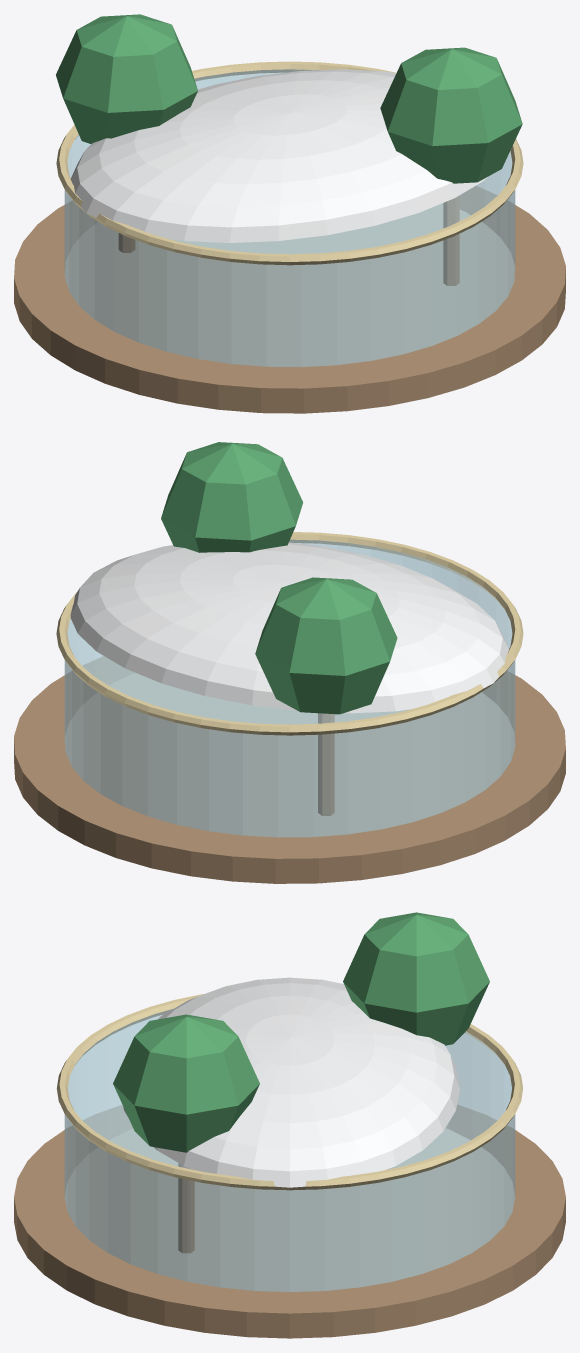
The model's file is reef-home-S.glb.
The picture shows the model from 3 angles, top to bottom: view 1: azimuth 30°, elevation 25°; view 2: azimuth 150°, elevation 25°; view 3: azimuth 270°, elevation 25°; orthographic projection.
Visible parts, largest first — view 1: Cylinder.011, Cylinder.012, Sphere.009, Sphere.010, Torus.212; view 2: Cylinder.011, Cylinder.012, Sphere.009, Sphere.010, Torus.212; view 3: Cylinder.011, Cylinder.012, Sphere.009, Sphere.010, Torus.212.
Boxes of the visible parts, x1,y1,x2,y2 form: Cylinder.011: (14,186,565,413); Cylinder.012: (64,69,515,367); Sphere.009: (71,69,487,242); Sphere.010: (56,14,522,183); Torus.212: (56,61,523,265); Cylinder.011: (14,656,565,883); Cylinder.012: (64,539,515,837); Sphere.009: (70,542,509,713); Sphere.010: (161,442,397,714); Torus.212: (56,532,523,735); Cylinder.011: (14,1105,565,1338); Cylinder.012: (64,1009,515,1292); Sphere.009: (123,977,459,1187); Sphere.010: (113,912,489,1152); Torus.212: (56,994,523,1190).
Size of the model in its own units: 12 by 6.2 by 12.
